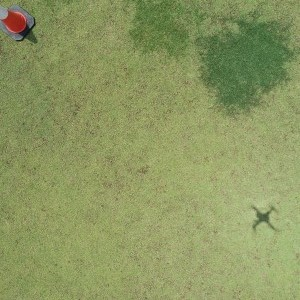traffic cone: (1, 5, 36, 42)
